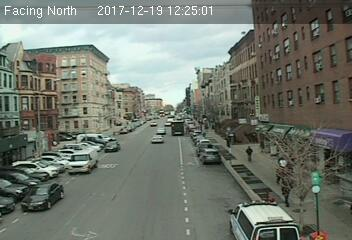car: (22, 182, 62, 210), (200, 148, 221, 162), (102, 141, 119, 151), (151, 134, 163, 143)
pedestrian: (244, 145, 253, 162)
police: (225, 197, 301, 240)
truck: (67, 148, 98, 176)
ups: (170, 119, 185, 136)
